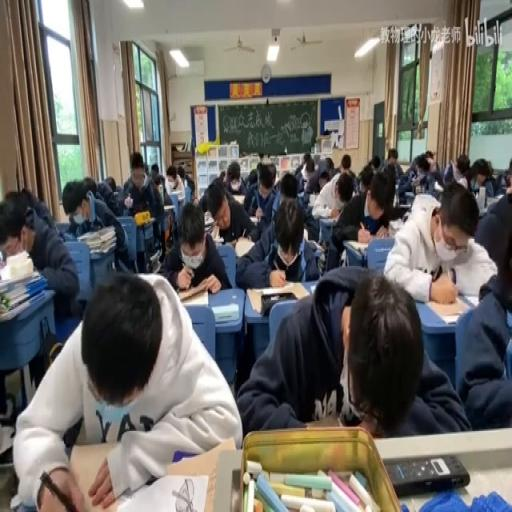calculator: (113, 468, 208, 509), (0, 256, 49, 320), (246, 281, 308, 313), (426, 296, 471, 324), (234, 234, 256, 258), (212, 302, 238, 322), (318, 215, 336, 243), (181, 288, 208, 306), (344, 239, 366, 253), (136, 214, 158, 228), (203, 215, 217, 236), (148, 248, 161, 270), (461, 292, 479, 307), (475, 186, 485, 212), (485, 193, 501, 209), (305, 239, 323, 252), (230, 193, 245, 205), (211, 233, 224, 246), (404, 189, 414, 205), (308, 194, 318, 208), (247, 214, 259, 224), (296, 189, 306, 201), (434, 179, 443, 192), (309, 283, 317, 292), (164, 204, 174, 210)
paper: (16, 267, 238, 508), (234, 263, 464, 434), (380, 180, 498, 302), (234, 192, 322, 287), (62, 176, 130, 279), (160, 199, 230, 292), (332, 168, 402, 259), (121, 150, 164, 264), (400, 148, 438, 196), (1, 198, 29, 244), (22, 186, 53, 225), (299, 156, 329, 195), (478, 158, 508, 196), (220, 158, 246, 196), (443, 154, 472, 188), (382, 198, 412, 228), (156, 165, 174, 205), (382, 147, 404, 179), (410, 189, 436, 212), (336, 174, 354, 204), (278, 171, 298, 196), (258, 164, 274, 192), (357, 168, 373, 195), (179, 164, 194, 192), (82, 176, 96, 199), (246, 168, 258, 185), (258, 150, 272, 164), (103, 174, 115, 190), (324, 155, 334, 174), (150, 161, 159, 179), (370, 155, 380, 171), (340, 154, 350, 170), (5, 189, 18, 201), (424, 151, 434, 165), (302, 154, 310, 168), (144, 162, 150, 175), (508, 155, 512, 174), (218, 169, 224, 181), (256, 160, 262, 170)
person: (384, 452, 470, 496), (414, 182, 422, 193)
